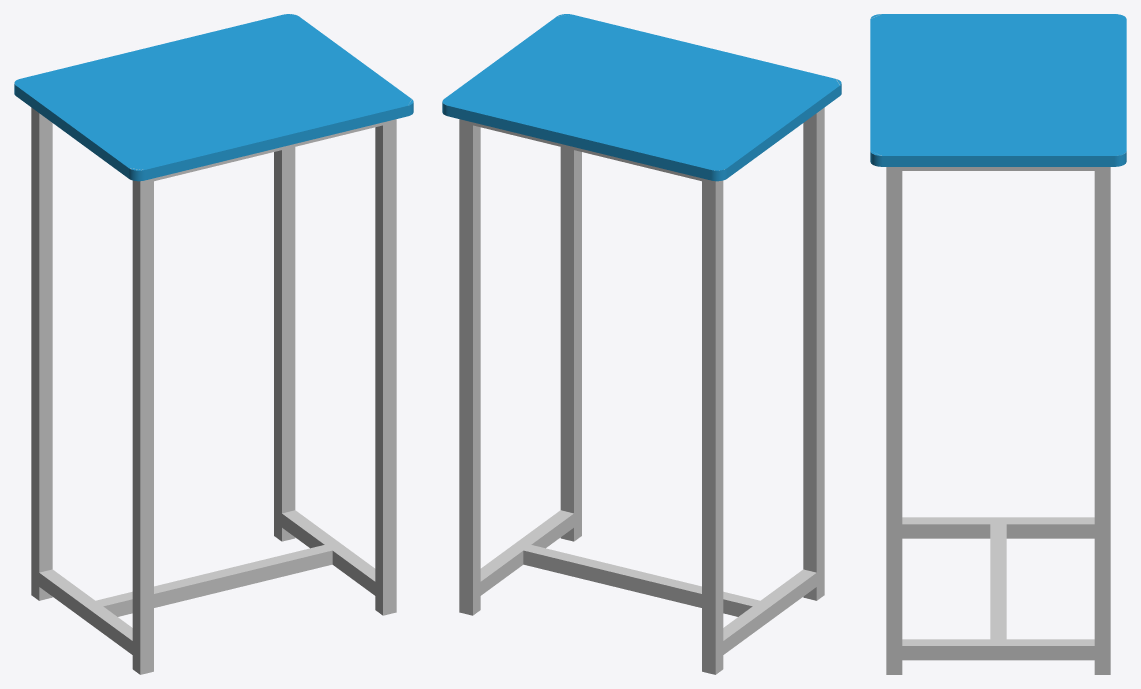
Rendered from RegularTable420x320Colored.dae.
3 renders of one model, left to right at view 1: azimuth 30°, elevation 25°; view 2: azimuth 150°, elevation 25°; view 3: azimuth 270°, elevation 25°, orthographic. The views are drawn at different scales.
Parts seen in each view (by area): view 1: node0; view 2: node0; view 3: node0.
Boxes of the visible parts, <box> form: node0: <box>14,14,413,674</box>; node0: <box>442,14,841,674</box>; node0: <box>870,14,1126,674</box>.
Bounding box in the file's own units: 420 × 320 × 725.
